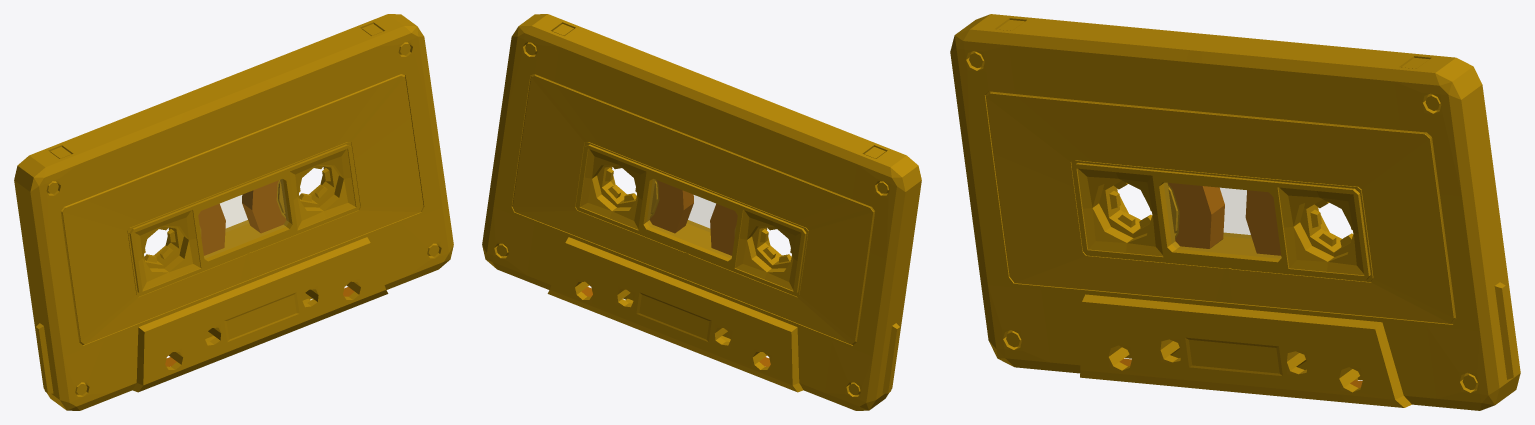
File: tapeanimations.fbx
The picture shows the model from 3 angles, left to right: view 1: azimuth 30°, elevation 25°; view 2: azimuth 150°, elevation 25°; view 3: azimuth 330°, elevation 25°; orthographic projection. The views are drawn at different scales.
Parts seen in each view (by area): view 1: Cube.001; view 2: Cube.001; view 3: Cube.001.
Boxes of the visible parts, x1,y1,x2,y2 form: Cube.001: (14,14,453,410); Cube.001: (482,14,921,410); Cube.001: (950,14,1520,410).
Bounding box in the file's own units: 30.2 × 20.63 × 3.54.
